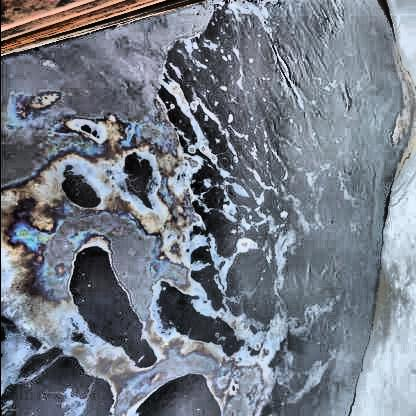sheen: (1, 2, 284, 416)
